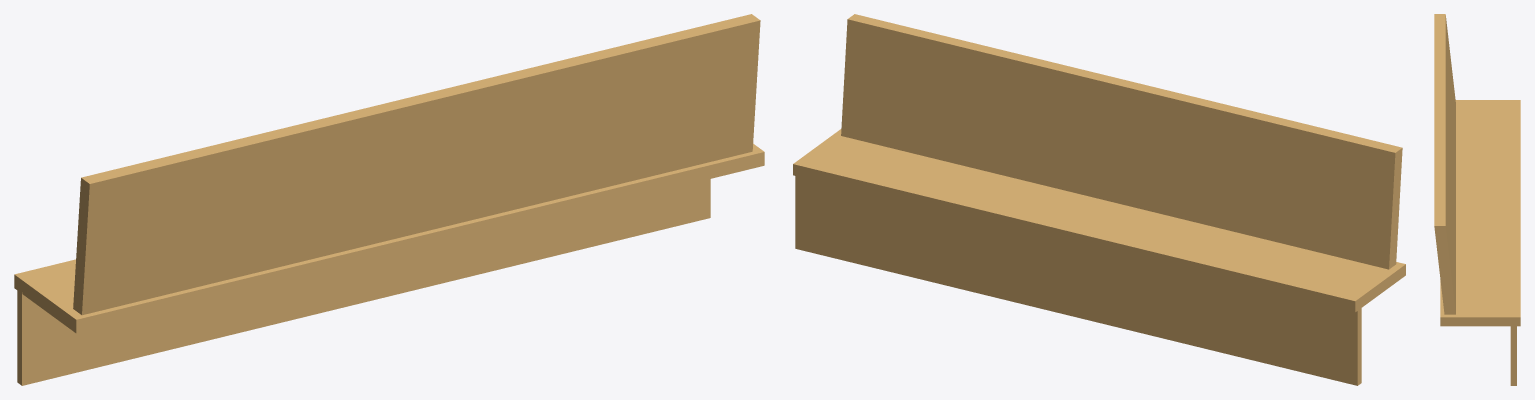
The model's file is Bench.fbx.
3 views of the same model, side by side, from view 1: azimuth 30°, elevation 25°; view 2: azimuth 150°, elevation 25°; view 3: azimuth 270°, elevation 25° (orthographic). The views are drawn at different scales.
Parts seen in each view (by area): view 1: Bench; view 2: Bench; view 3: Bench.
Boxes of the visible parts, box(x1,y1,x2,y2) form: Bench: box(14, 14, 764, 385); Bench: box(793, 14, 1405, 385); Bench: box(1434, 14, 1520, 385).
Bounding box in the file's own units: 2.05 × 0.6919 × 0.3446.
